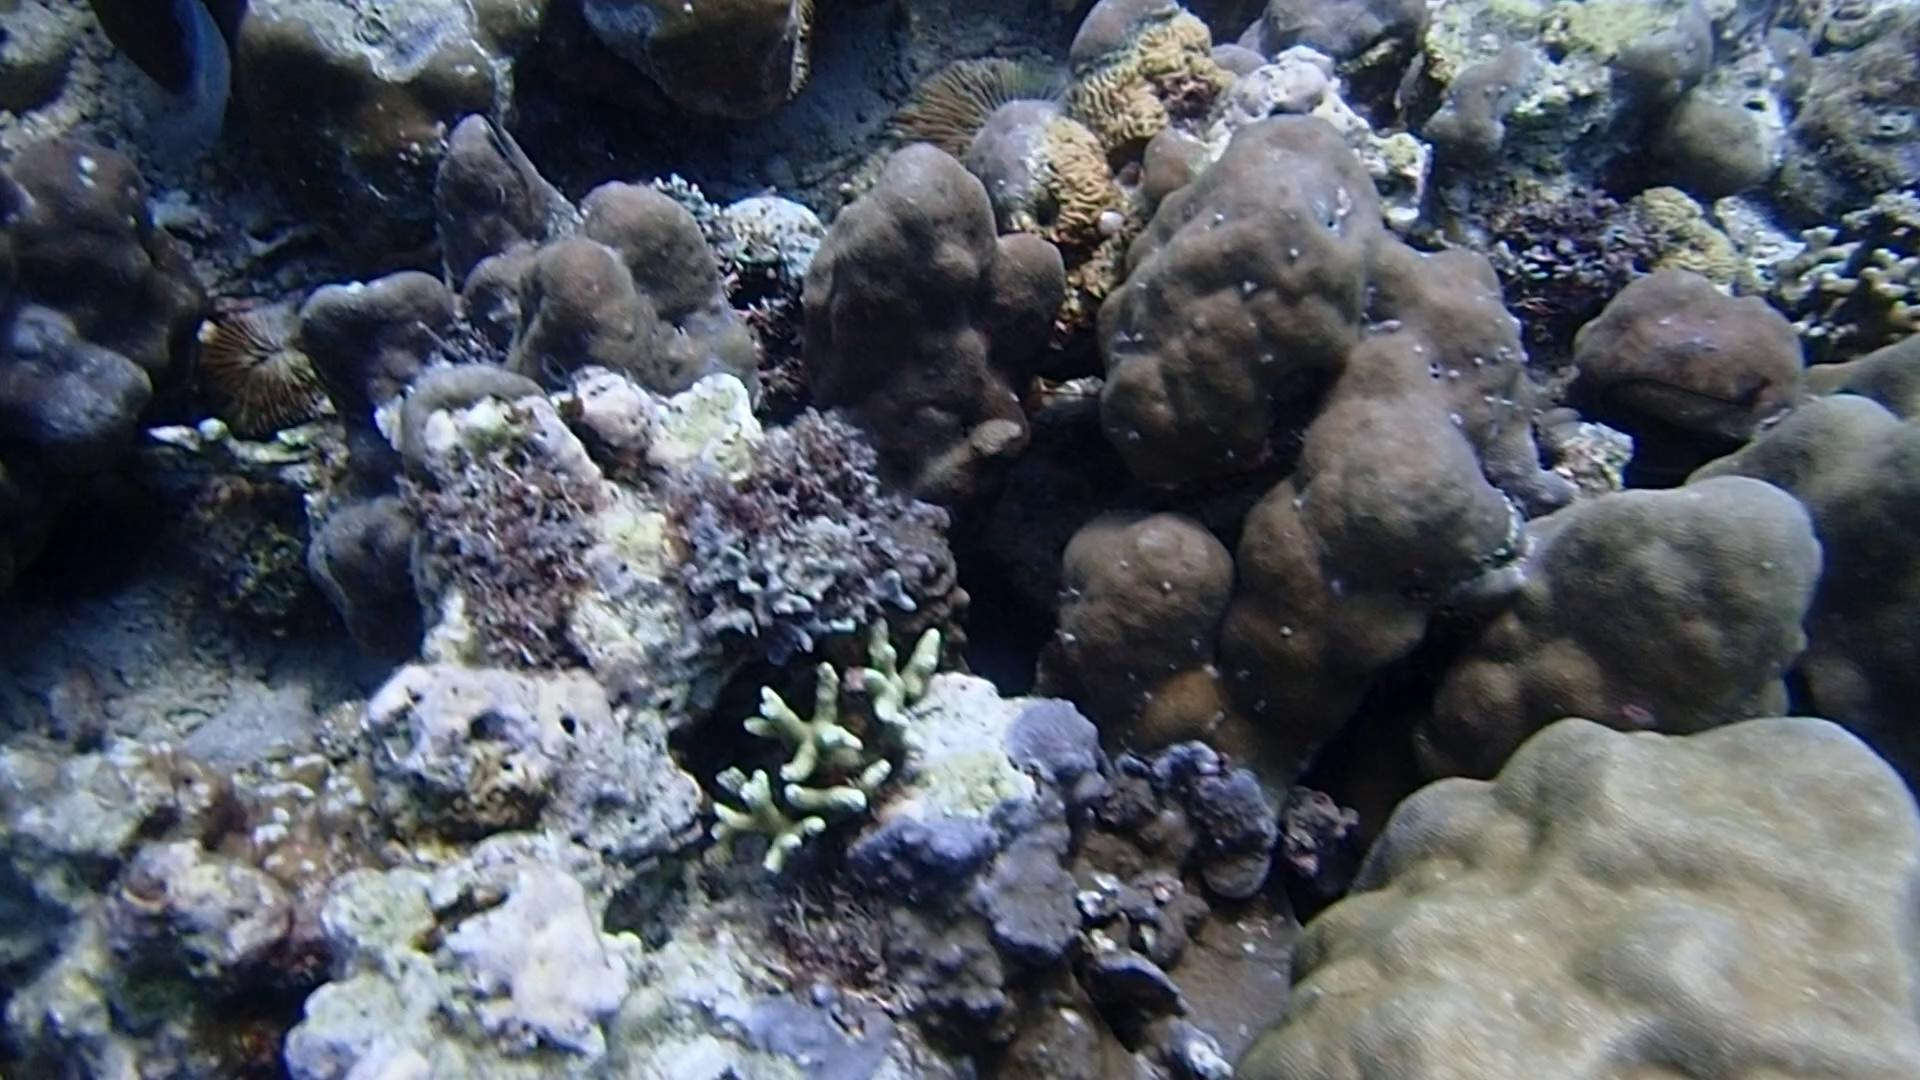Blue Fish Two: (133, 0, 249, 171)
